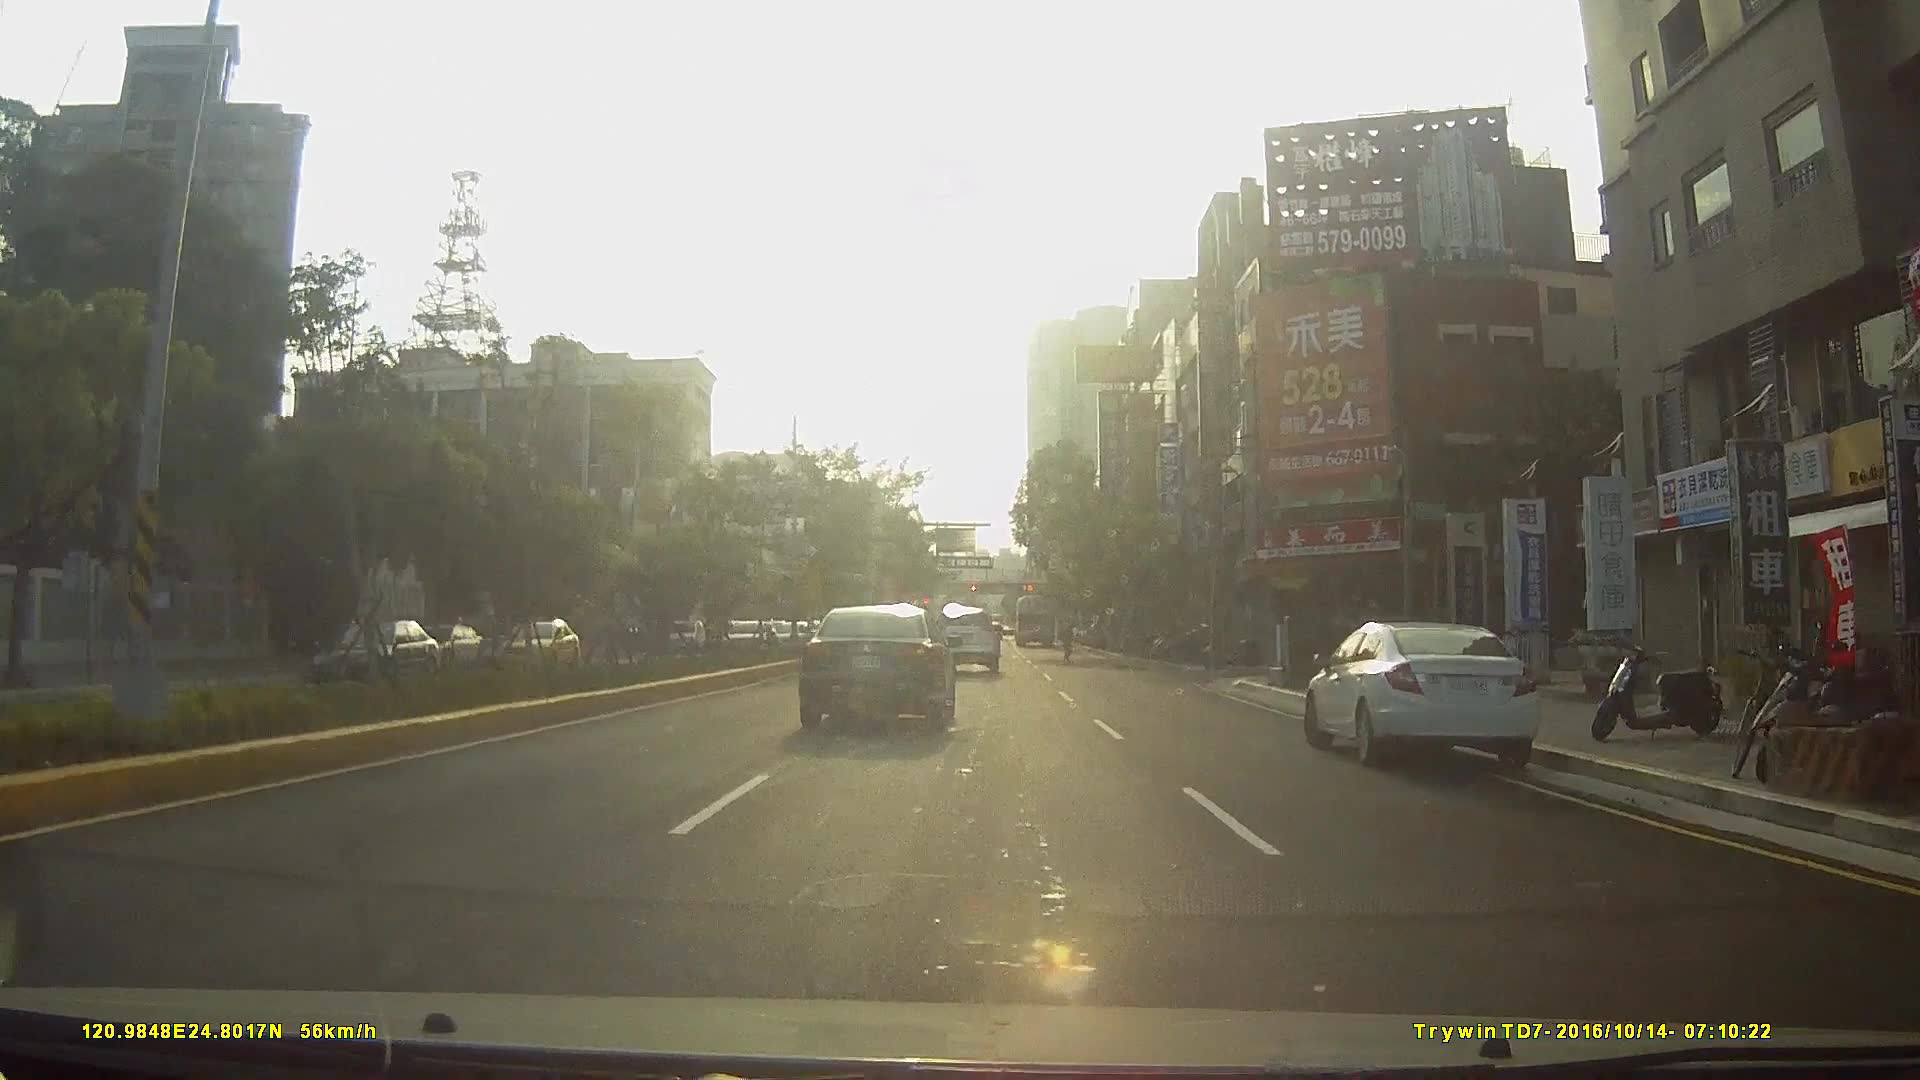vehicle: (1308, 617, 1559, 773), (796, 599, 959, 728), (290, 607, 448, 702), (493, 611, 588, 676), (924, 599, 1000, 673), (328, 617, 417, 671), (405, 618, 484, 667), (1011, 589, 1055, 646), (717, 617, 774, 658), (662, 617, 702, 653)
